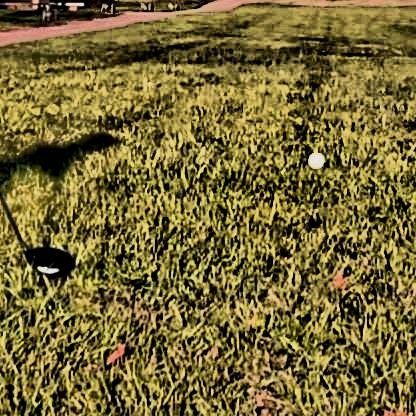golfball: (305, 149, 322, 166)
